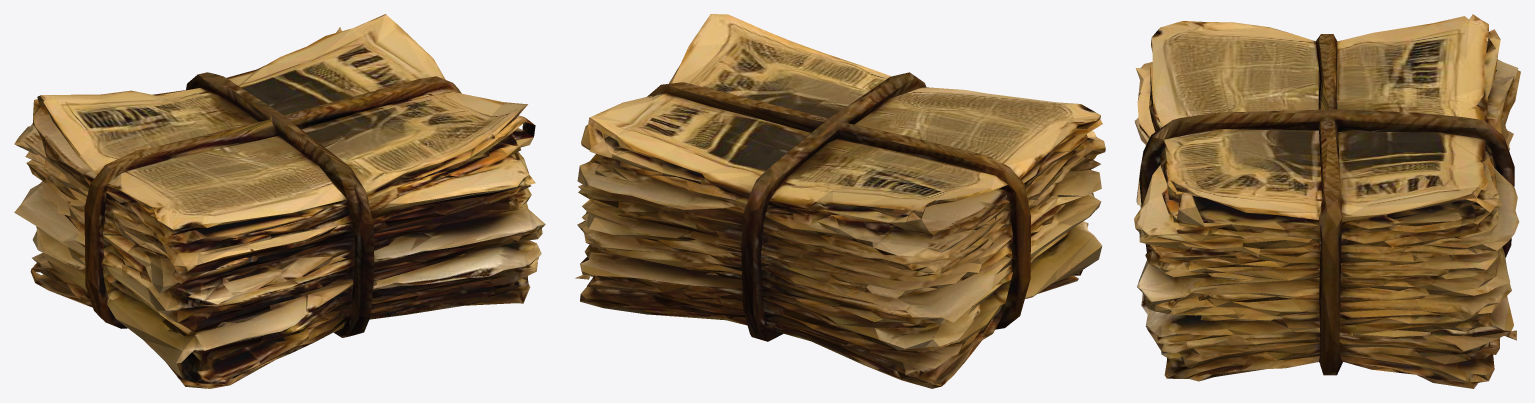
The model's file is papers_lod0.glb.
The picture shows the model from 3 angles, left to right: view 1: azimuth 30°, elevation 25°; view 2: azimuth 150°, elevation 25°; view 3: azimuth 270°, elevation 25°; orthographic projection. The views are drawn at different scales.
Parts seen in each view (by area): view 1: material; view 2: material; view 3: material.
Boxes of the visible parts, box(x1,y1,x2,y2) form: material: box(14, 14, 545, 388); material: box(575, 14, 1105, 388); material: box(1134, 14, 1520, 388).
Bounding box in the file's own units: 2.11 × 1 × 1.75.
Materials: 1 (1 with a texture image).
